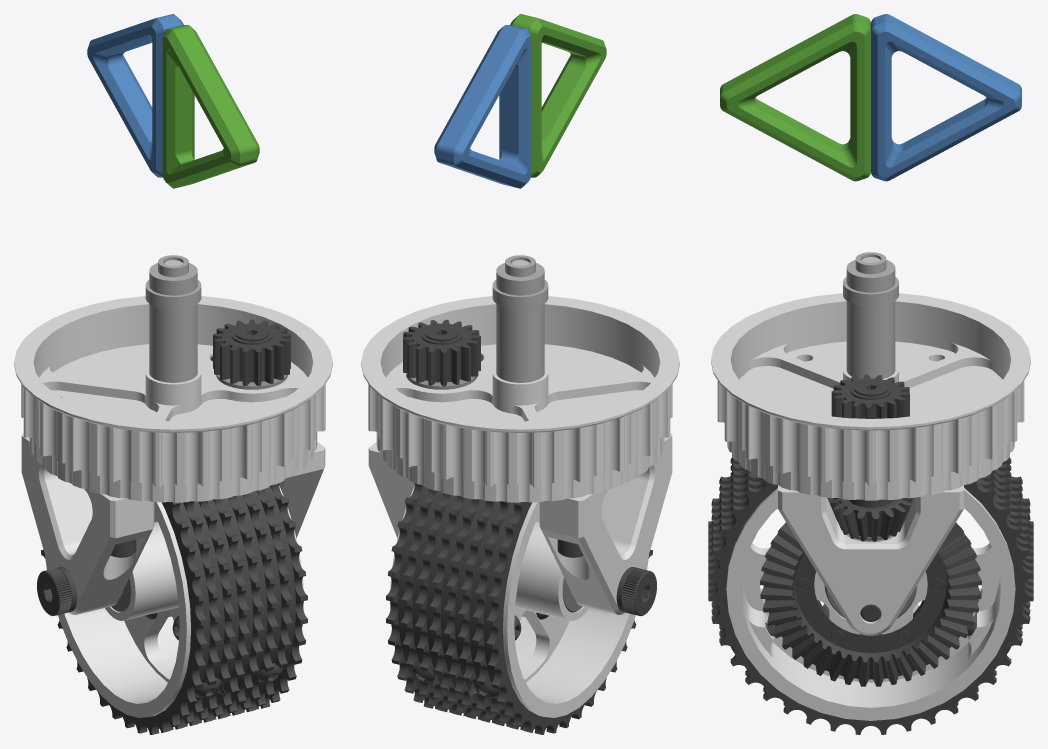
Rendered from Robot_Swerve_2.glb.
The picture shows the model from 3 angles, left to right: view 1: azimuth 30°, elevation 25°; view 2: azimuth 150°, elevation 25°; view 3: azimuth 270°, elevation 25°; orthographic projection.
Visible parts, largest first — view 1: MK3 Base Pulley Tall, Tread, Blue Nitrile 4in X 1.5in, Wheel, SDS, Nitrile Tread, 4in X 1.5in, Bearing Bore, Wheel Mount A, Green, Blue, MK3 Center Column, Gear, 17T, 20DP, .375Hex, Wheel Mount B Gen2, Screw, Shoulder, .375 X 2.5, 5_16-18, 91259A634_91259A634; view 2: MK3 Base Pulley Tall, Tread, Blue Nitrile 4in X 1.5in, Wheel, SDS, Nitrile Tread, 4in X 1.5in, Bearing Bore, Wheel Mount A, Blue, Green, MK3 Center Column, Gear, 17T, 20DP, .375Hex, Wheel Mount B Gen2, Screw, Shoulder, .375 X 2.5, 5_16-18, 91259A634_91259A634; view 3: MK3 Base Pulley Tall, Wheel, SDS, Nitrile Tread, 4in X 1.5in, Bearing Bore, Bevel Gear, 4515, Tread, Blue Nitrile 4in X 1.5in, Wheel Mount B Gen2, Green, Blue, MK3 Center Column, Bevel Gear, 1545, Gear, 17T, 20DP, .375Hex.
Boxes of the visible parts, box(x1,y1,x2,y2) form: MK3 Base Pulley Tall: box(14, 296, 332, 502); Tread, Blue Nitrile 4in X 1.5in: box(41, 483, 307, 734); Wheel, SDS, Nitrile Tread, 4in X 1.5in, Bearing Bore: box(45, 486, 303, 717); Wheel Mount A: box(21, 433, 154, 614); Green: box(162, 25, 259, 188); Blue: box(87, 14, 183, 177); MK3 Center Column: box(145, 255, 201, 382); Gear, 17T, 20DP, .375Hex: box(213, 319, 290, 385); Wheel Mount B Gen2: box(279, 442, 325, 538); Screw, Shoulder, .375 X 2.5, 5_16-18, 91259A634_91259A634: box(37, 567, 77, 615); MK3 Base Pulley Tall: box(361, 296, 679, 502); Tread, Blue Nitrile 4in X 1.5in: box(386, 483, 652, 734); Wheel, SDS, Nitrile Tread, 4in X 1.5in, Bearing Bore: box(390, 486, 648, 717); Wheel Mount A: box(539, 433, 672, 614); Blue: box(434, 25, 531, 188); Green: box(510, 14, 606, 177); MK3 Center Column: box(492, 255, 548, 382); Gear, 17T, 20DP, .375Hex: box(403, 319, 480, 386); Wheel Mount B Gen2: box(368, 442, 414, 538); Screw, Shoulder, .375 X 2.5, 5_16-18, 91259A634_91259A634: box(616, 567, 656, 615); MK3 Base Pulley Tall: box(711, 293, 1030, 500); Wheel, SDS, Nitrile Tread, 4in X 1.5in, Bearing Bore: box(726, 488, 1015, 720); Bevel Gear, 4515: box(760, 497, 981, 686); Tread, Blue Nitrile 4in X 1.5in: box(708, 457, 1033, 734); Wheel Mount B Gen2: box(778, 485, 963, 635); Green: box(720, 14, 870, 181); Blue: box(871, 14, 1021, 181); MK3 Center Column: box(843, 252, 898, 379); Bevel Gear, 1545: box(830, 498, 911, 541); Gear, 17T, 20DP, .375Hex: box(831, 374, 909, 418).
Bounding box in the file's own units: 0.0984 × 0.2343 × 0.1001.
